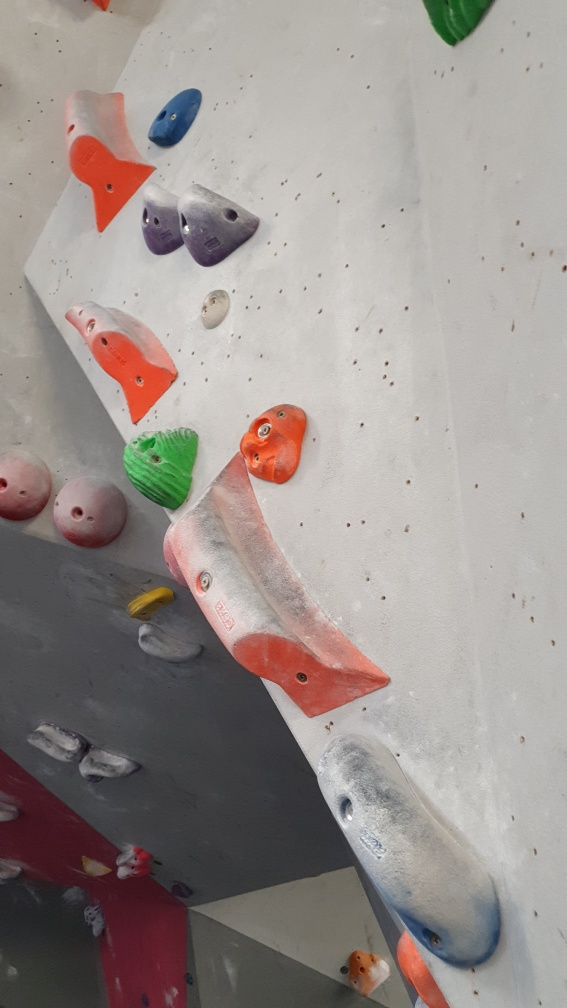Jug: (178, 181, 262, 265), (128, 429, 198, 516), (141, 183, 182, 257)
Pinch: (166, 447, 394, 719), (315, 727, 506, 971), (60, 300, 180, 427), (59, 82, 158, 232)
Sloper: (52, 471, 131, 551), (1, 447, 55, 521)
